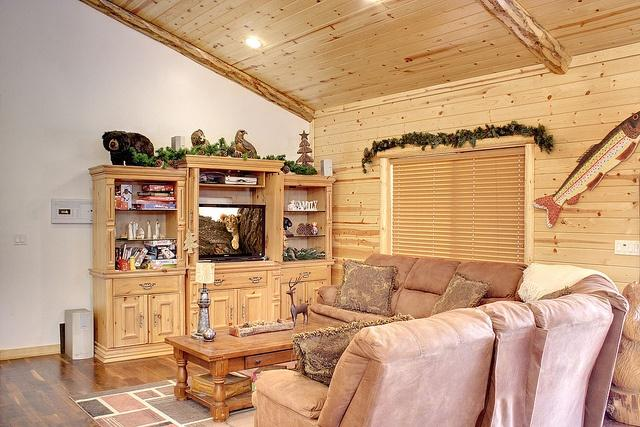Lemari: (92, 274, 186, 360), (187, 264, 275, 333)
Meja: (164, 316, 297, 421)
Rak: (90, 164, 188, 271), (282, 175, 337, 262)
